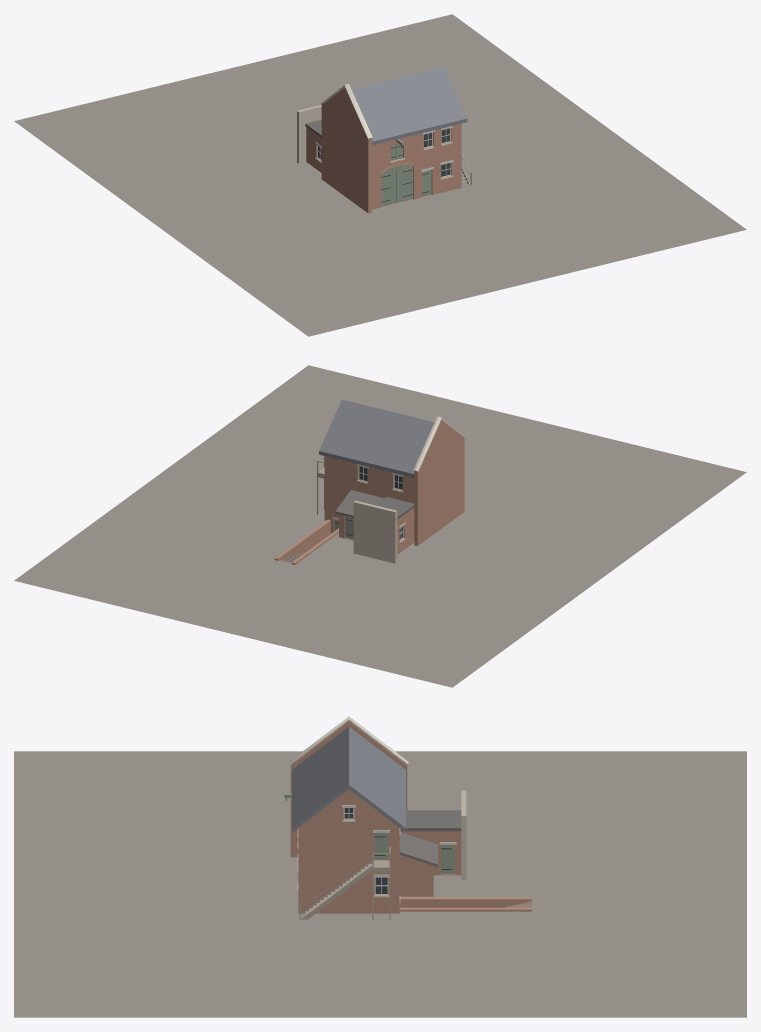
Rendered from k12_coach_house_kit.glb.
3 renders of one model, top to bottom at view 1: azimuth 30°, elevation 25°; view 2: azimuth 150°, elevation 25°; view 3: azimuth 270°, elevation 25°, orthographic. The views are drawn at different scales.
Visible parts, largest first — view 1: k12.coach_house.two_storey_brick; view 2: k12.coach_house.two_storey_brick; view 3: k12.coach_house.two_storey_brick.
Part boxes in pixels (x1=…): k12.coach_house.two_storey_brick: x1=14, y1=14, x2=746, y2=336; k12.coach_house.two_storey_brick: x1=14, y1=365, x2=746, y2=687; k12.coach_house.two_storey_brick: x1=14, y1=716, x2=746, y2=1017.
Size of the model in its own units: 41 by 11.8 by 47.7.
